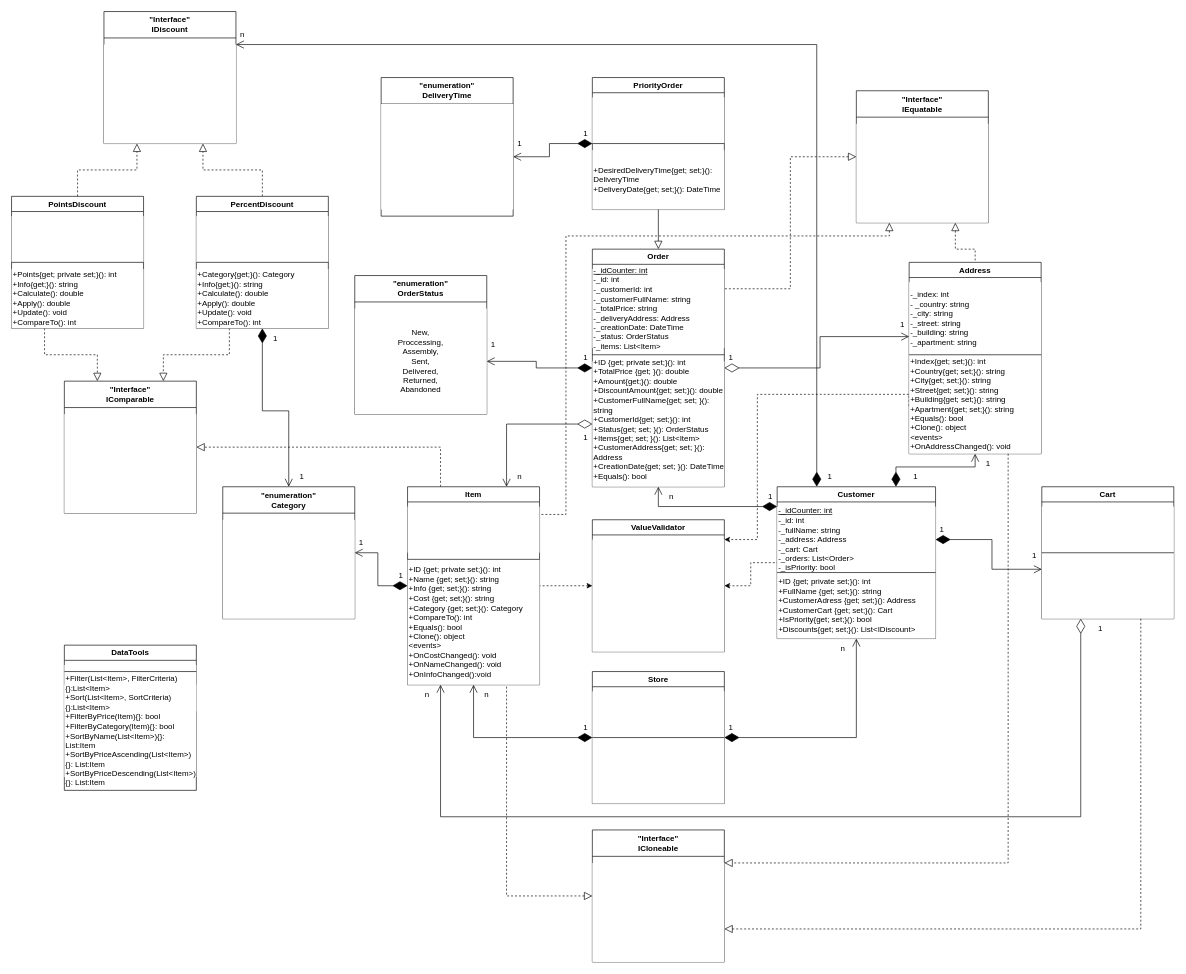
This 1186x974 diagram has some shape labels left out. Here are the shapes that lost their labels. From the top down, the centre of each, then its label:
the point at 170,93: +Info{get;}(): string +Calculate(): double +Apply(): double +Update(): void
the point at 658,120: -_deliveryTime: DeliveryTime -_deliveryDate: DateTime
the point at 447,156: Morning, Lunch, Afternoon, Evening, LateEvening, Night
the point at 922,172: +Equals(): bool
the point at 77,239: -_points: int
the point at 262,239: -_percent: int -_category: Category -_totalSum: double
the point at 130,463: +CompareTo(): int
the point at 473,529: -_idCounter: int -_id: int -_name: string -_info: string -_cost: int
the point at 1107,529: -_items: List<Item>
the point at 288,568: Food, Clothes, Boots, Toys, Electronics, Accessories, Books
the point at 1107,585: + Items{ get; set; }(): List<Item> + Amount{ get; }(): float +Clone(): object
the point at 658,595: +AssertStringOnLength(string, int, string): void
the point at 658,714: -_items: List<Item> -_customers: List<Customer>
the point at 658,770: + Items{ get; set; }(): List<Item> + Customers{ get; set; }(): List<Customer >
the point at 658,912: +Clone(): object
